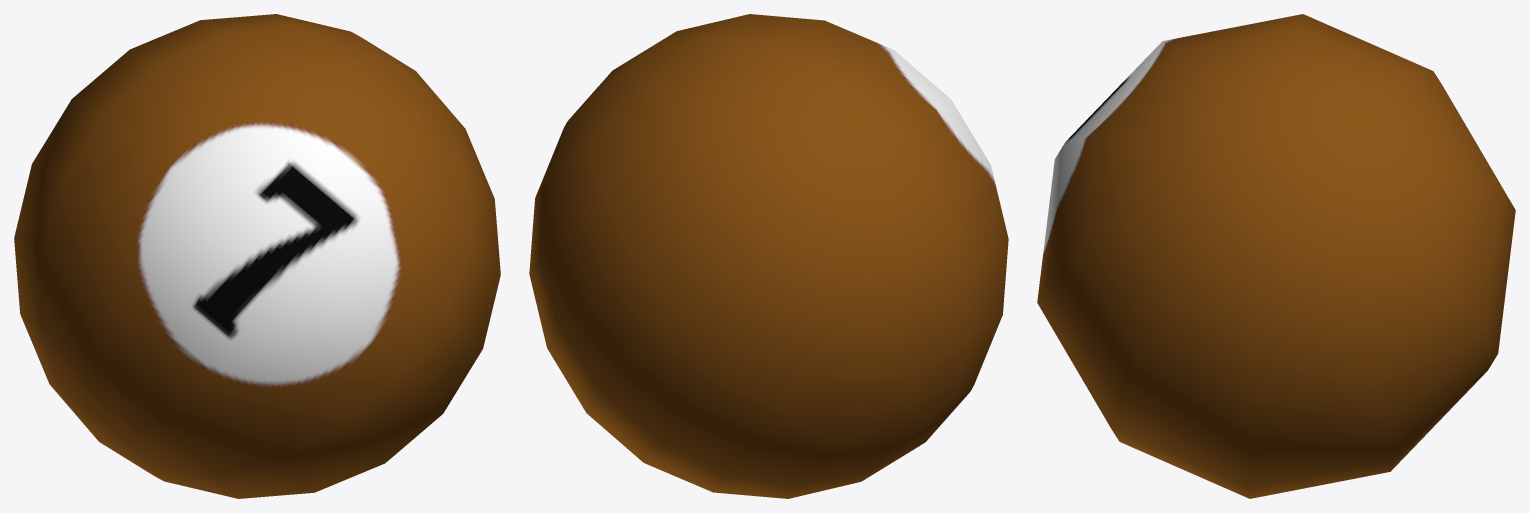
File: Ball7.gltf
The picture shows the model from 3 angles, left to right: view 1: azimuth 30°, elevation 25°; view 2: azimuth 150°, elevation 25°; view 3: azimuth 270°, elevation 25°; orthographic projection.
Visible parts, largest first — view 1: Ball7_Material_#37_0; view 2: Ball7_Material_#37_0; view 3: Ball7_Material_#37_0.
Boxes of the visible parts, box(x1,y1,x2,y2) form: Ball7_Material_#37_0: box(14, 14, 500, 498); Ball7_Material_#37_0: box(529, 14, 1008, 498); Ball7_Material_#37_0: box(1037, 14, 1515, 498).
Size of the model in its own units: 5.74 by 5.74 by 5.67.
Materials: 1 (1 with a texture image).
